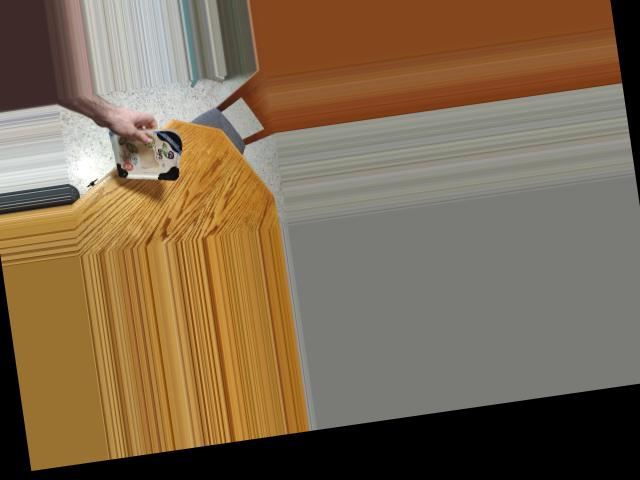cheese: (106, 115, 188, 189)
